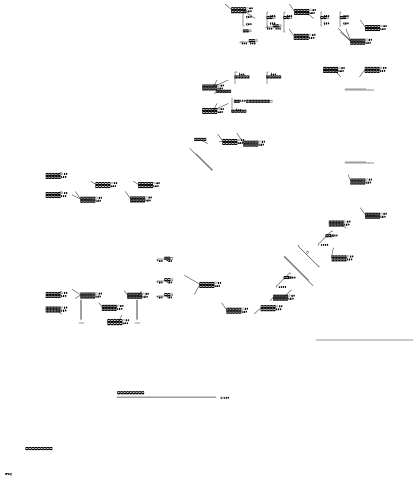wall: (271, 142, 299, 173), (168, 278, 190, 300)
